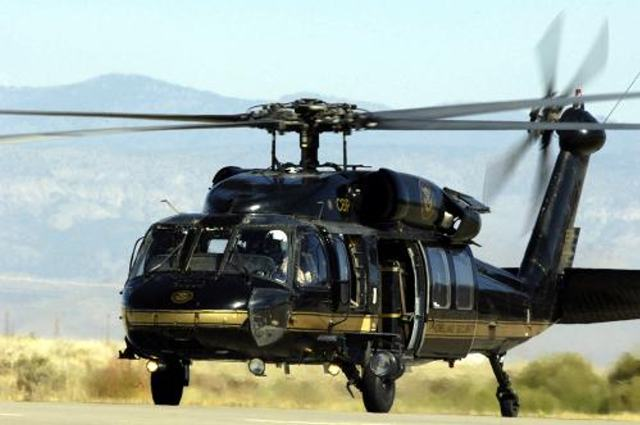MilitaryHelicopter: (121, 82, 640, 398)
